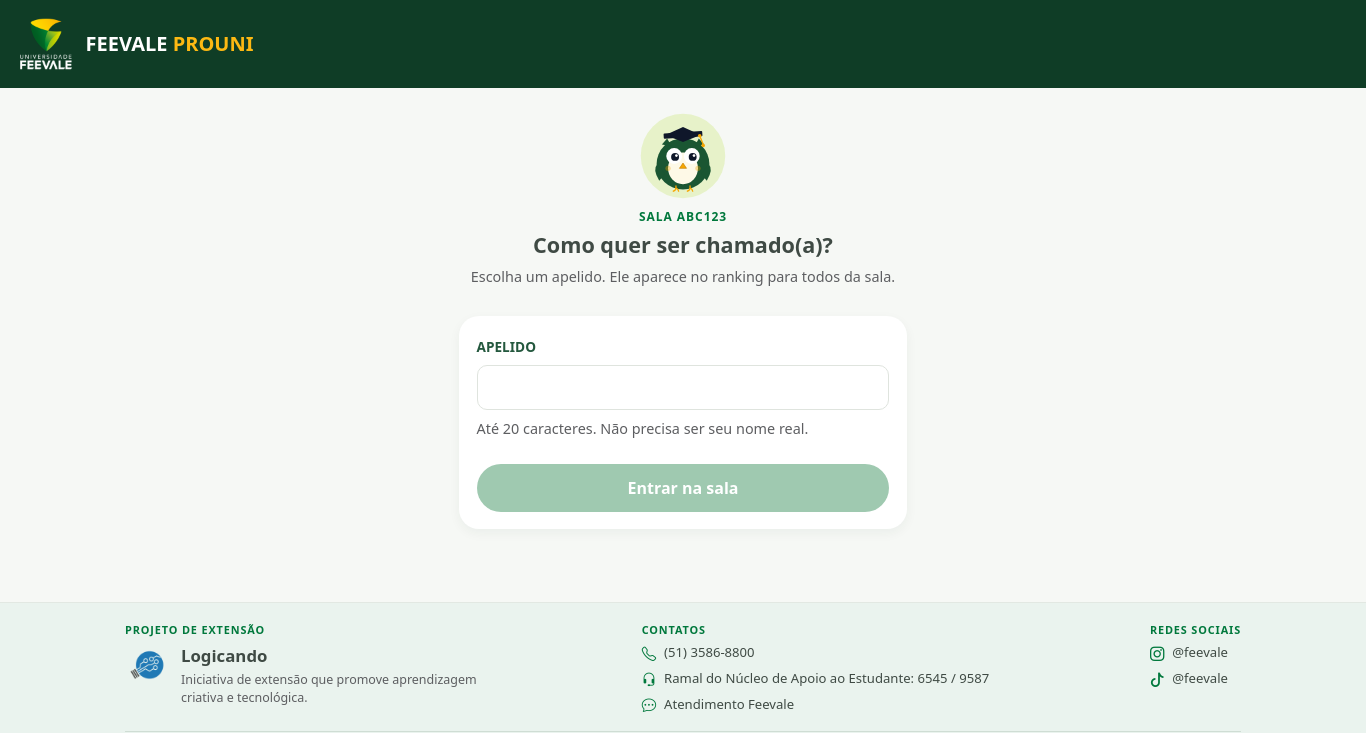
PaginaSalaApelido › avisa quando a sala não existe
This screenshot has width=1366, height=733.
Type "Ana" into the field labelled "APELIDO" at x=683, y=388, box top-left (477, 365), bottom-right (889, 410)
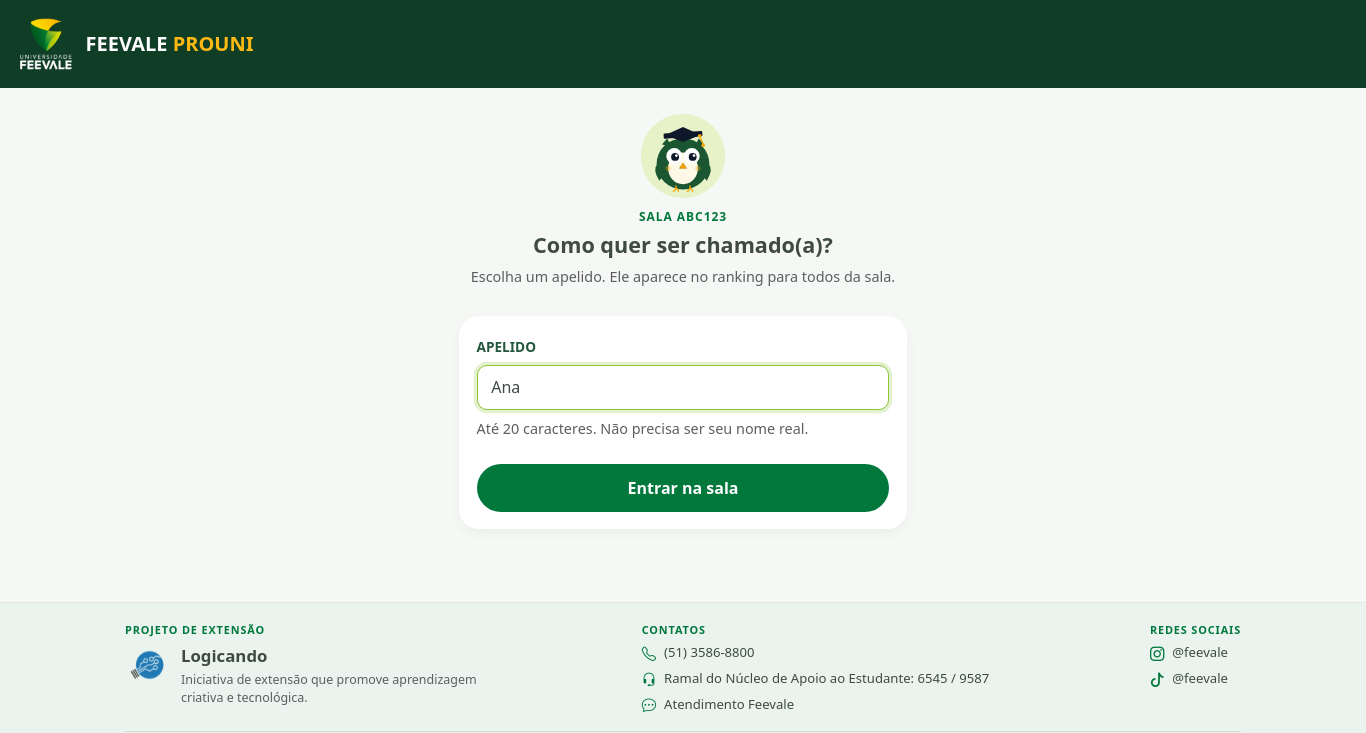
Click the button "Entrar na sala" at x=683, y=488, box top-left (477, 464), bottom-right (889, 512)
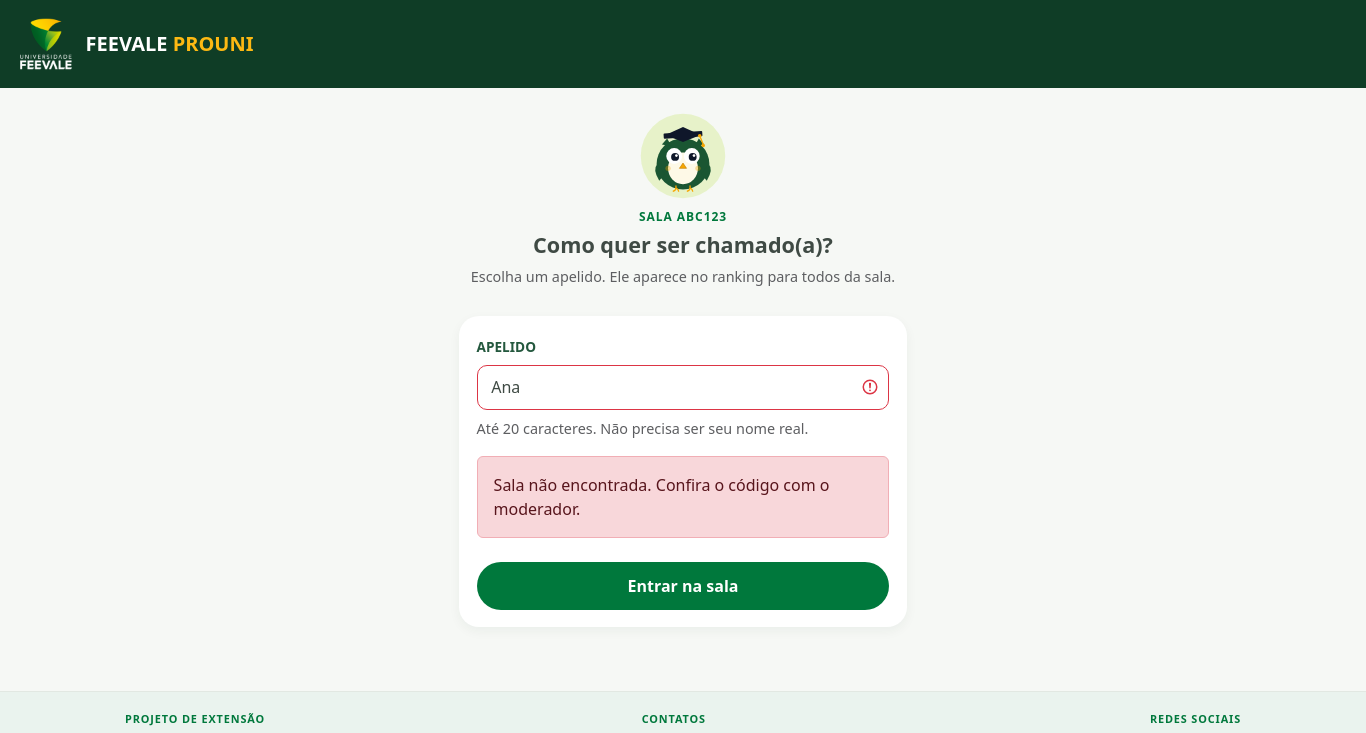
Expected: the message reads "Sala não encontrada. Confira o código com o moderador.", top-left (494, 474), bottom-right (830, 520)
